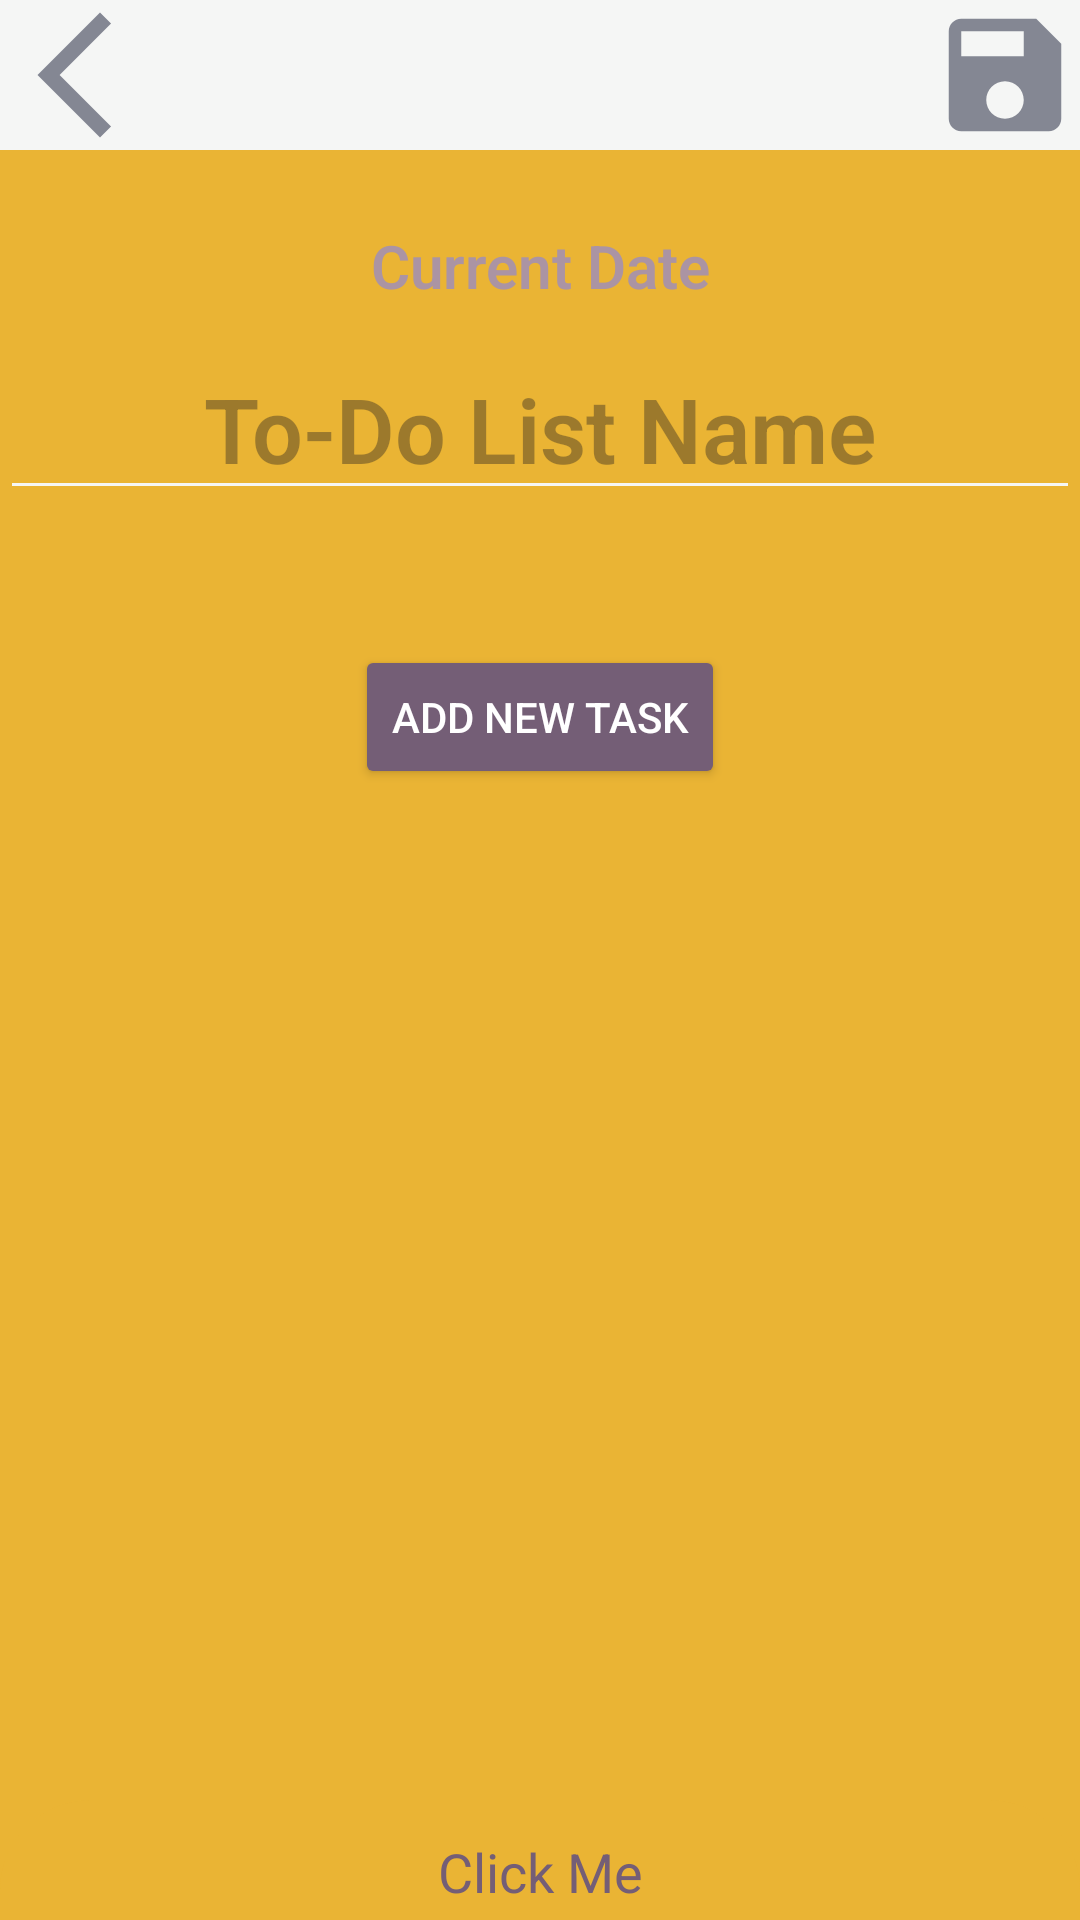

Named icons in this screenshot (1080 x 1920) and their centers, [x,y]:
arrow back: [74,75]
save: [1005,75]
